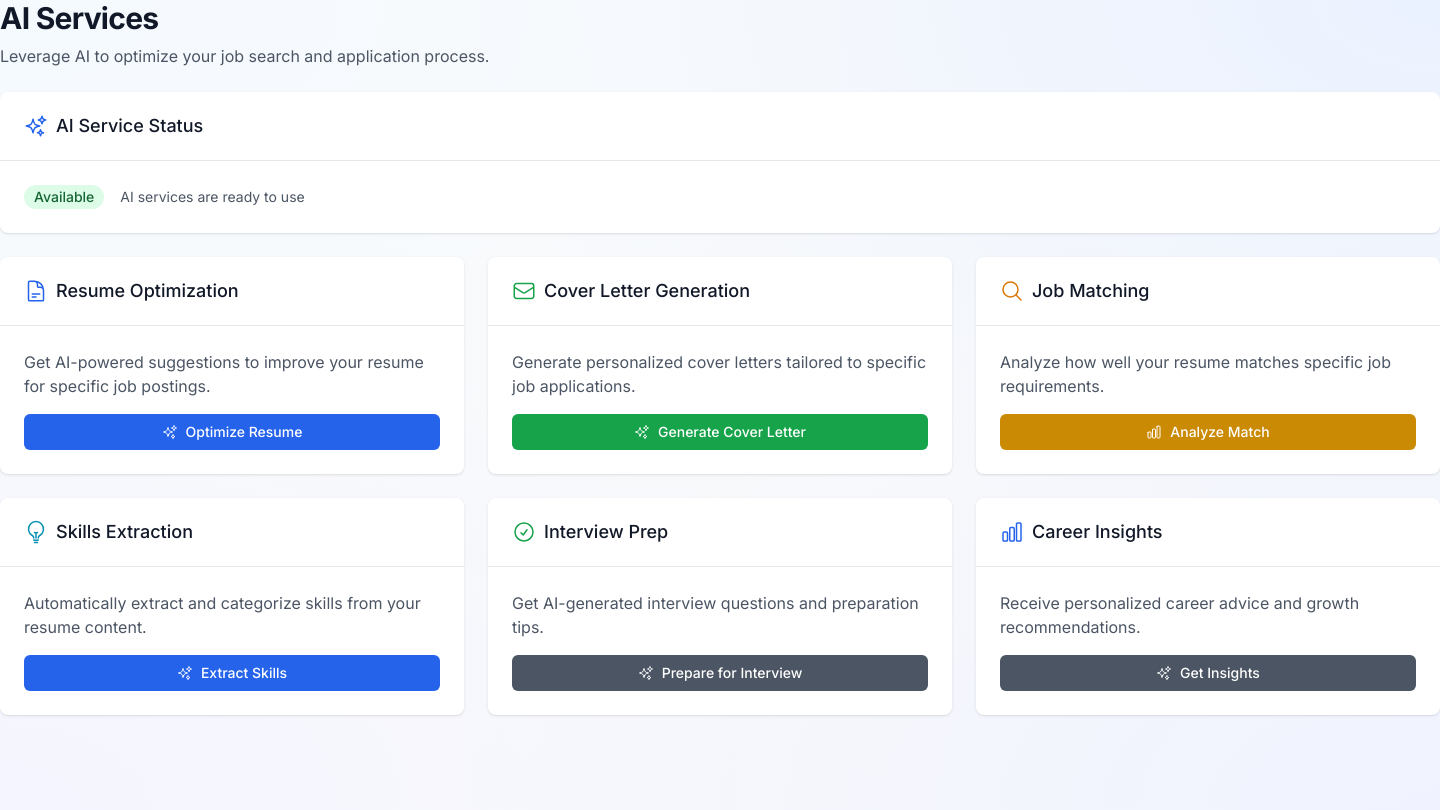
Scenario: AIServices Page › opens Job Matching modal
Click the button "Analyze Match".
click(1208, 432)  # box [1000, 414, 1416, 450]
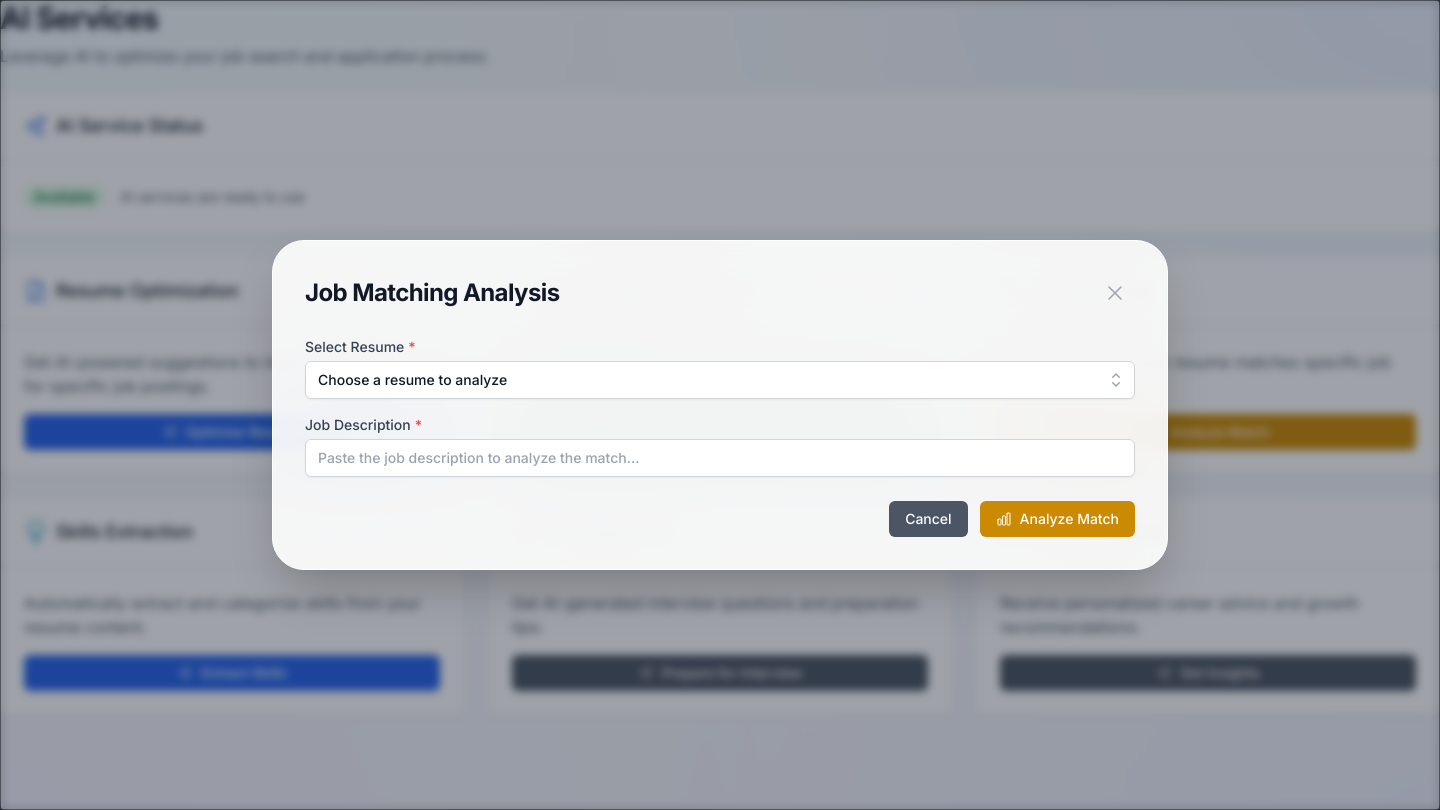
Expected: the heading "Job Matching Analysis" is shown, [305, 277, 560, 309]
